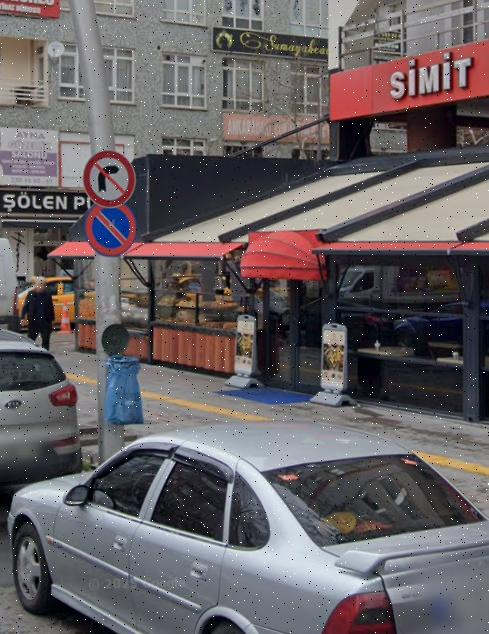rightturnsareforbidden: (80, 145, 140, 209)
